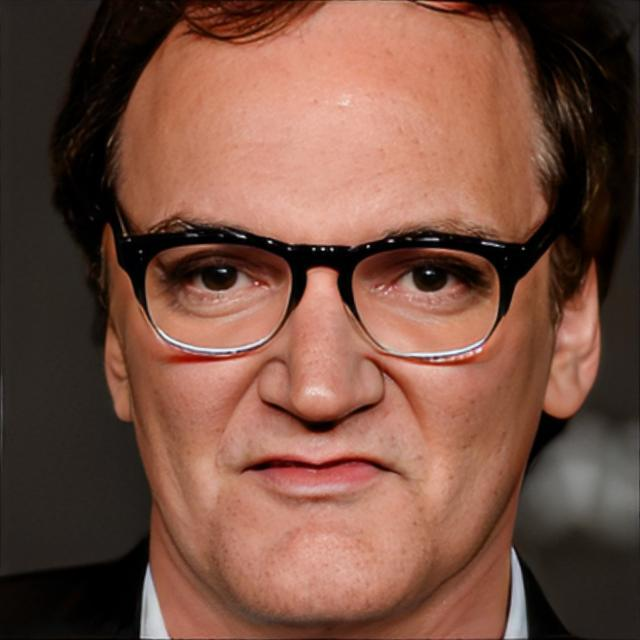disgust: (110, 0, 554, 628)
